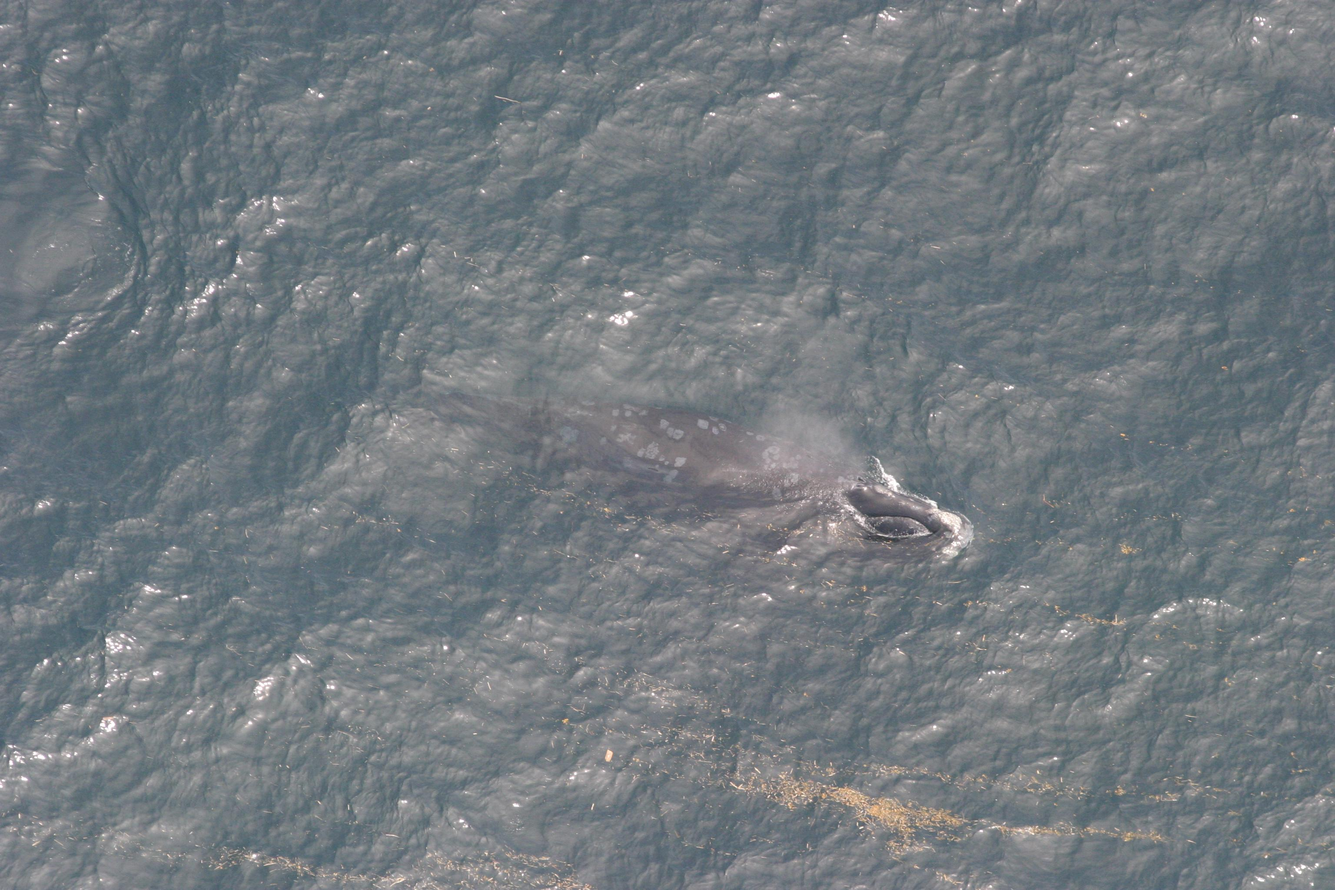whale: (363, 352, 981, 572)
